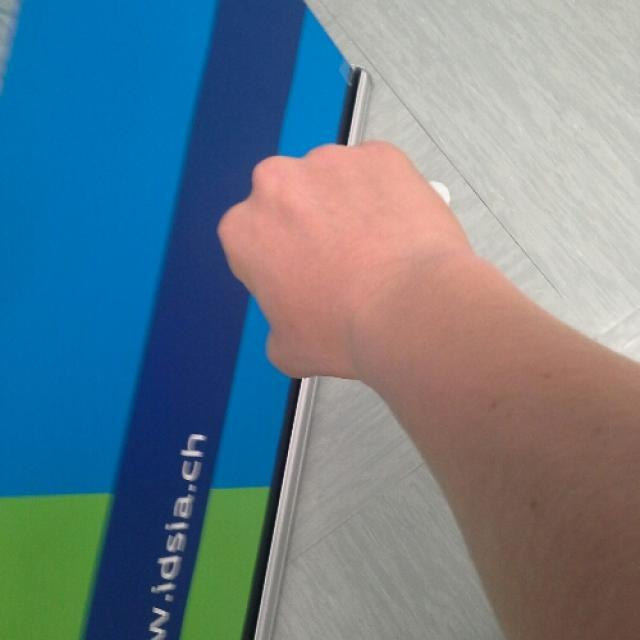fist: (211, 142, 432, 380)
